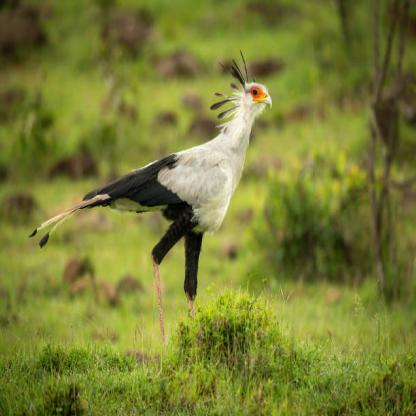Sagittarius serpentarius: (28, 46, 273, 356)
